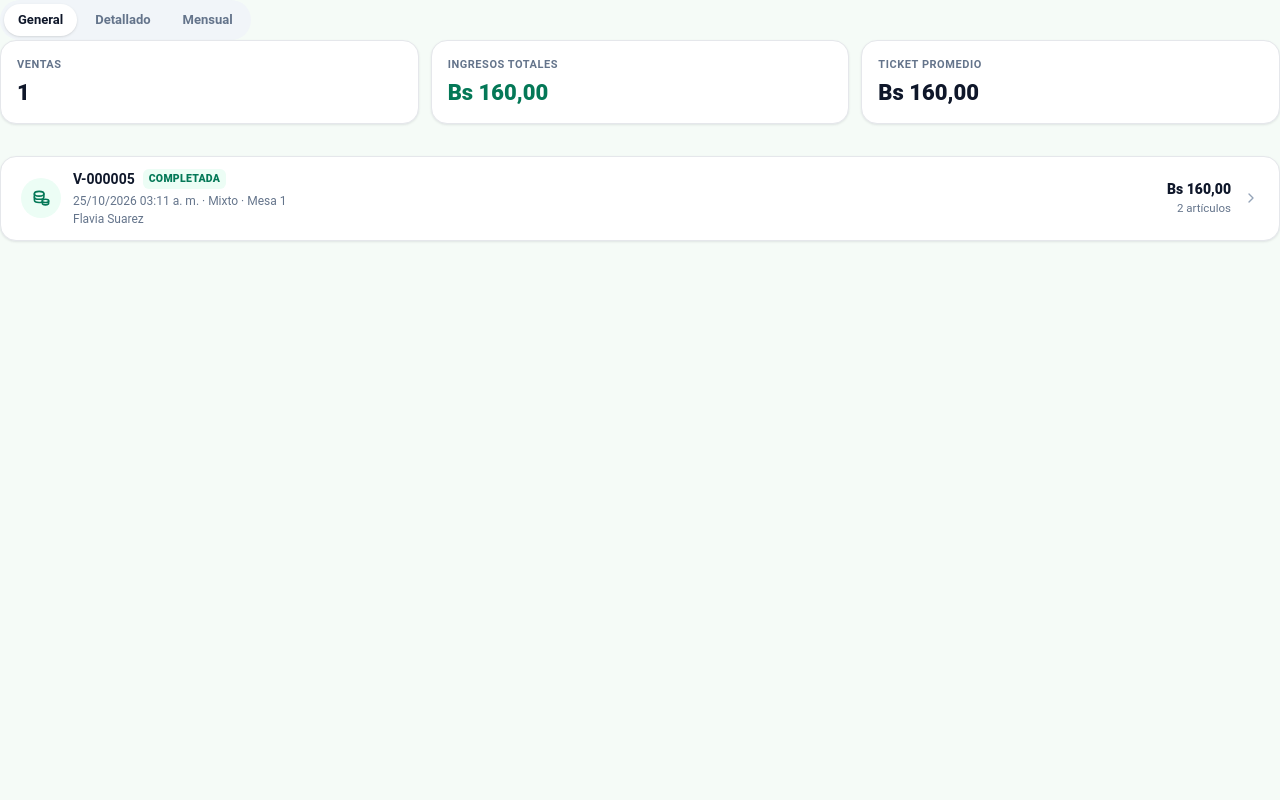
Reportes › Ventas en el restaurante (REP-02, 28-oct) › un pedido a domicilio dice cliente, teléfono, dirección, repartidor, envío y nota
What coordinates should you click on to do the following:
click the button "V-000005"
I would click on:
 (41, 198)
Its box is [1,156,1279,240].
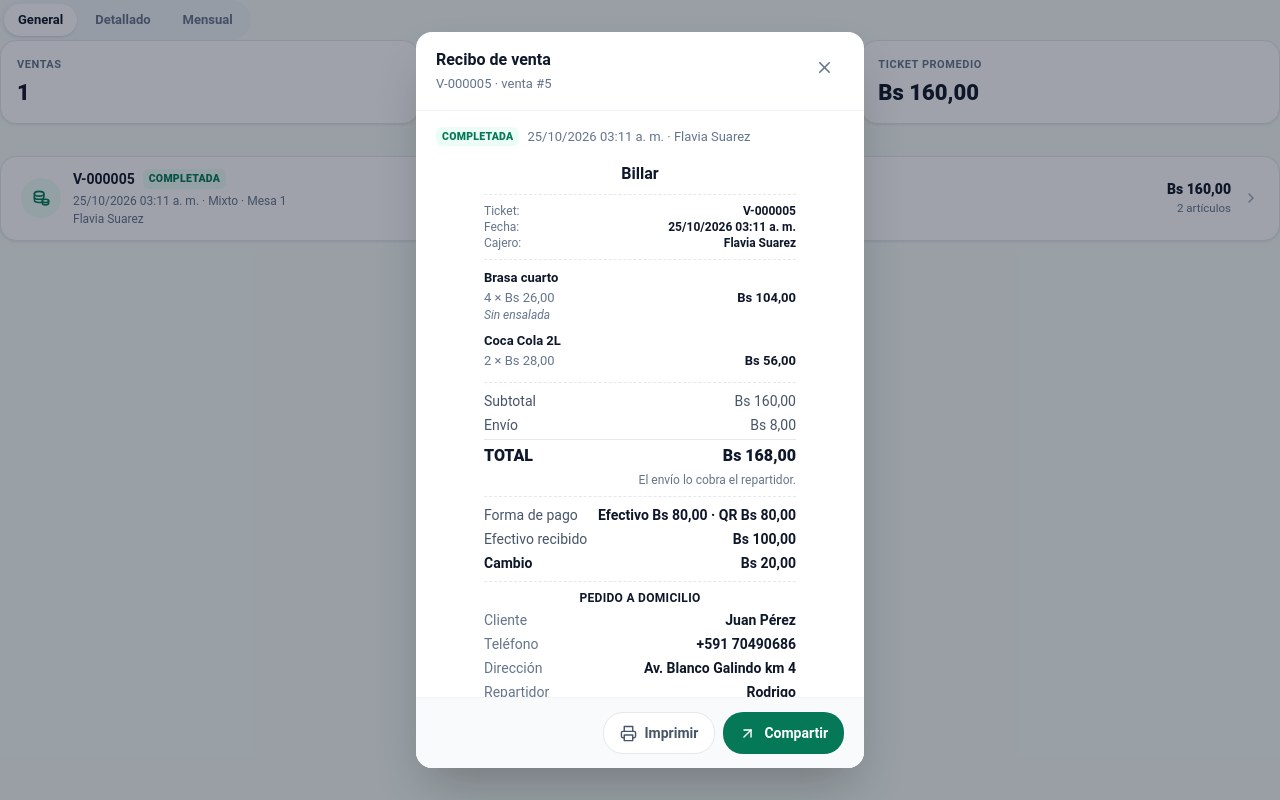
Expected: the element "Pedido a domicilio" shows "Juan Pérez", [725,612,796,628]
Expected: the element "Pedido a domicilio" shows "+591 70490686", [696,636,796,652]
Expected: the element "Pedido a domicilio" shows "Av. Blanco Galindo km 4", [644,660,796,676]
